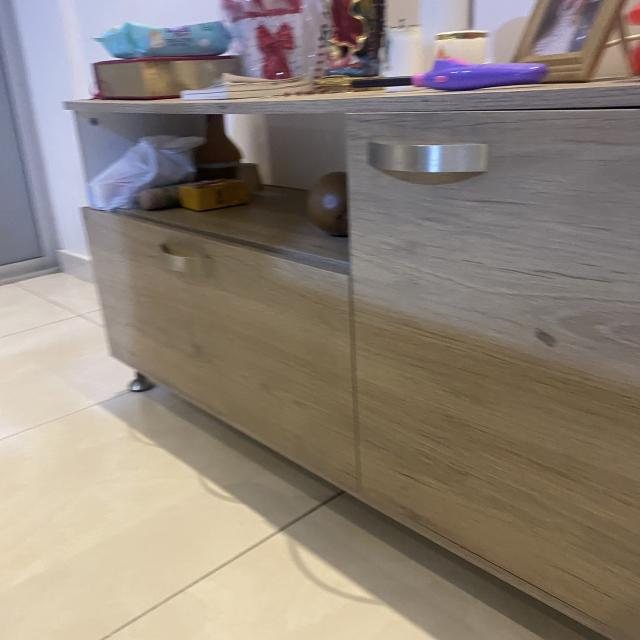obstacle: (28, 71, 640, 582)
